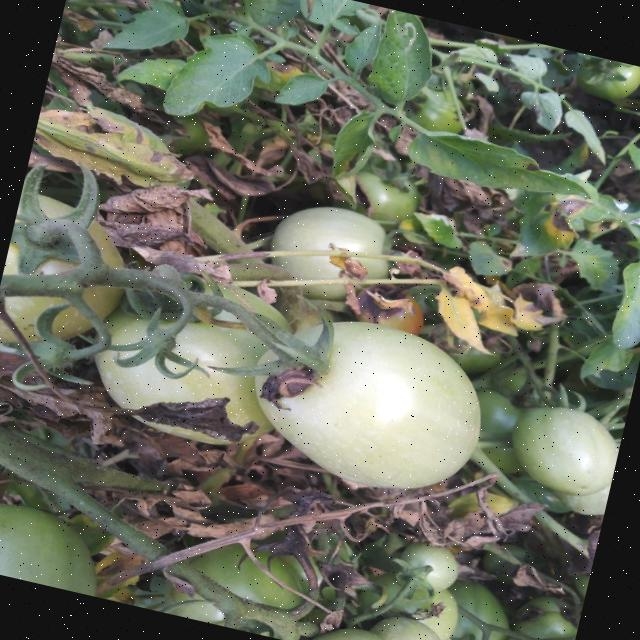Unripe: (232, 296, 500, 509)
